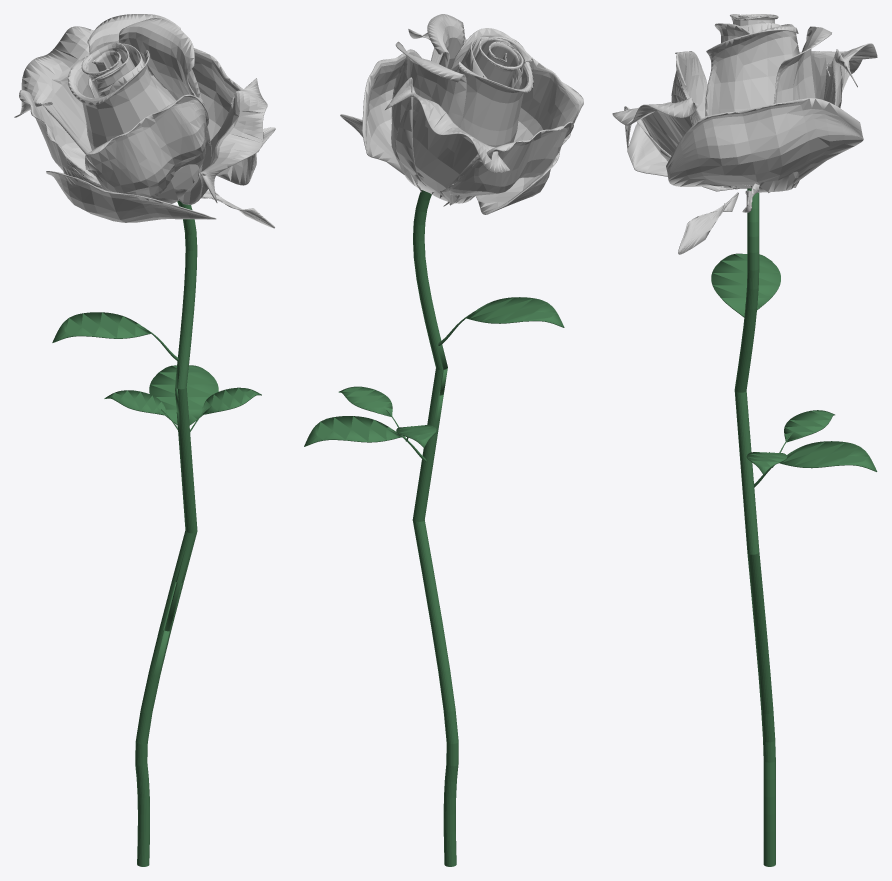
File: rose.blanche.fbx
3 views of the same model, side by side, from view 1: azimuth 30°, elevation 25°; view 2: azimuth 150°, elevation 25°; view 3: azimuth 270°, elevation 25° (orthographic).
Parts seen in each view (by area): view 1: Loft01.001, Loft01; view 2: Loft01.001, Loft01; view 3: Loft01.001, Loft01.
Part boxes in pixels (<box>): Loft01.001: <box>14,14,275,228</box>; Loft01: <box>52,200,261,866</box>; Loft01.001: <box>340,14,583,214</box>; Loft01: <box>304,190,564,866</box>; Loft01.001: <box>612,14,877,254</box>; Loft01: <box>711,188,877,866</box>.
Bounding box in the file's own units: 144 × 513 × 146.
